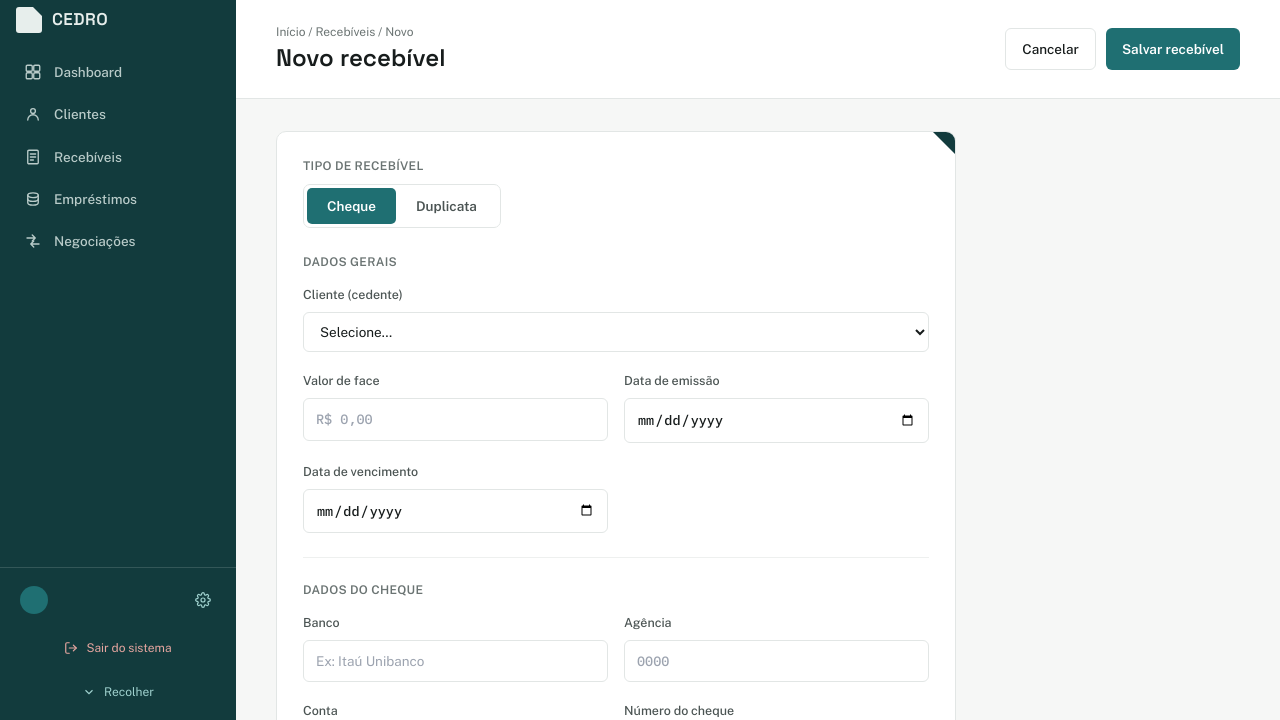
Scenario: RecebivelForm › switches to Duplicata fields when toggled
Expected: the field labelled "Banco" is shown, [303,640,608,682]
Click the button "Duplicata": click(446, 206) [396,188,497,224]
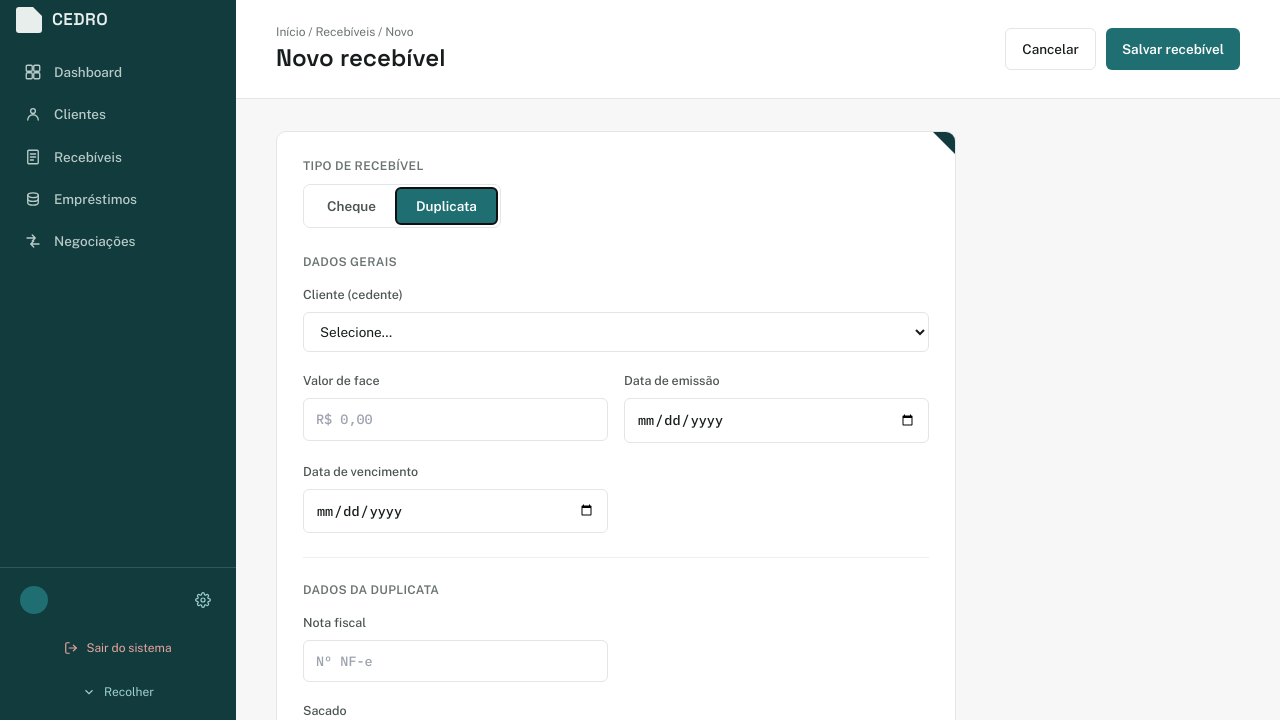
Expected: the field labelled "Nota fiscal" is shown, [303,640,608,682]
Expected: the label labelled "Banco" is gone
